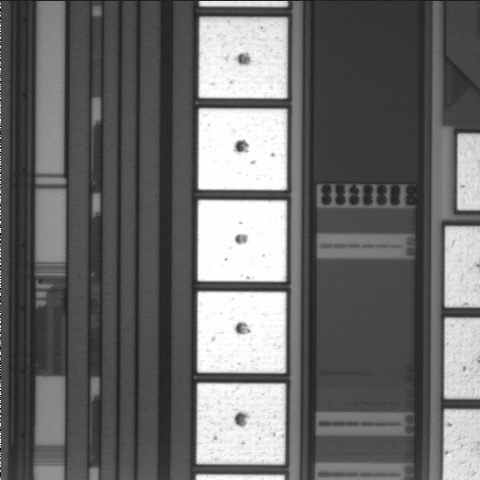pad: (198, 108, 287, 190), (198, 200, 287, 282), (196, 383, 286, 464), (197, 292, 286, 373), (199, 17, 287, 98)
